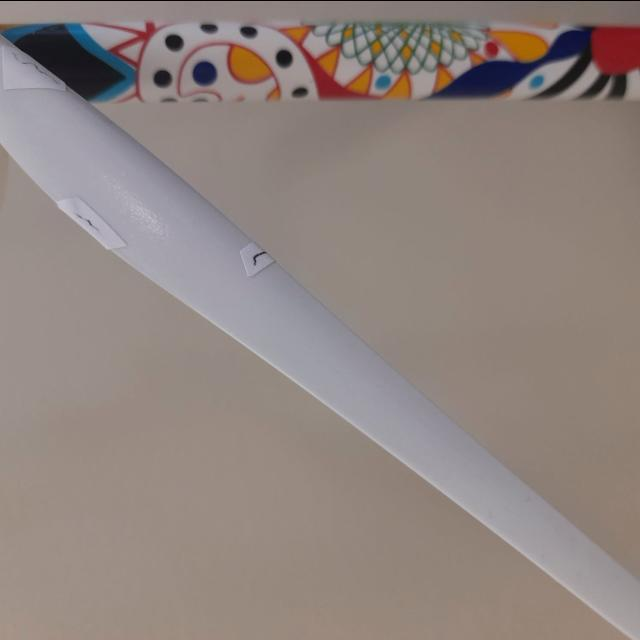dano: (66, 206, 112, 240), (247, 248, 273, 266)
